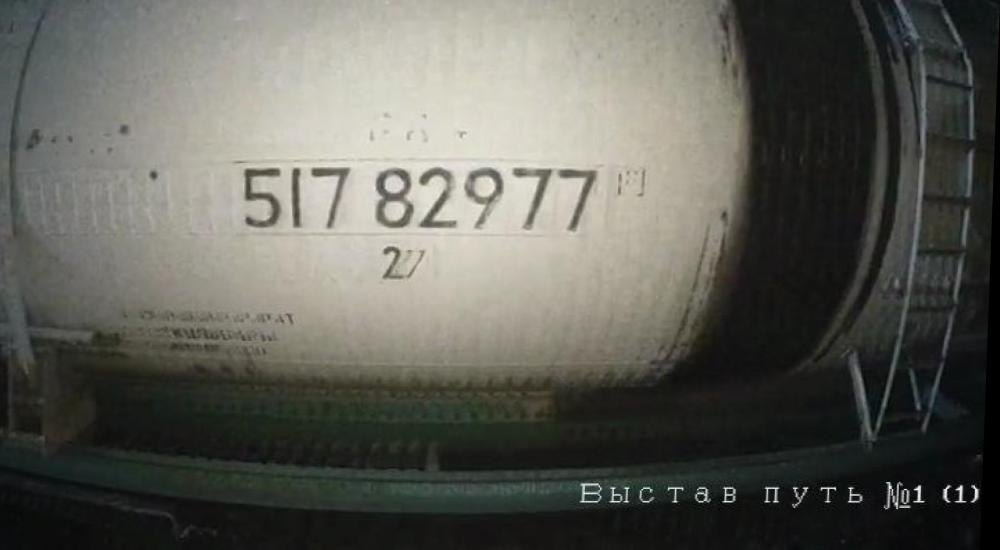Wagon-number: (236, 160, 610, 236)
